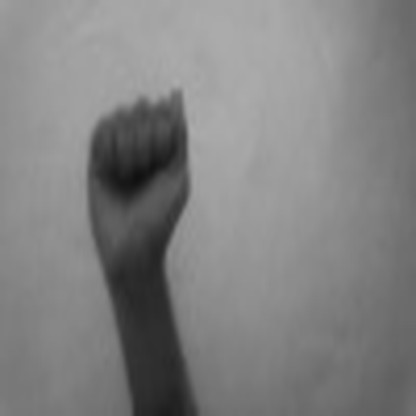a: (85, 84, 194, 267)
